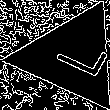L_NW: (38, 31, 104, 82)
